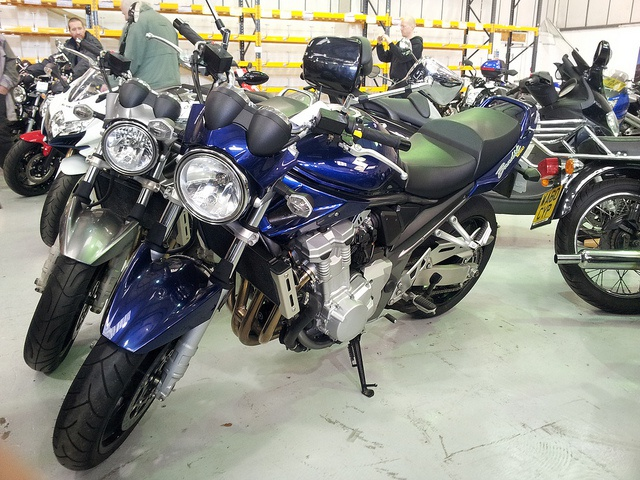non-vehicle: (50, 5, 540, 469), (21, 50, 190, 374), (520, 117, 640, 317), (0, 46, 112, 196), (489, 70, 585, 214), (5, 38, 96, 146), (553, 38, 622, 136)
